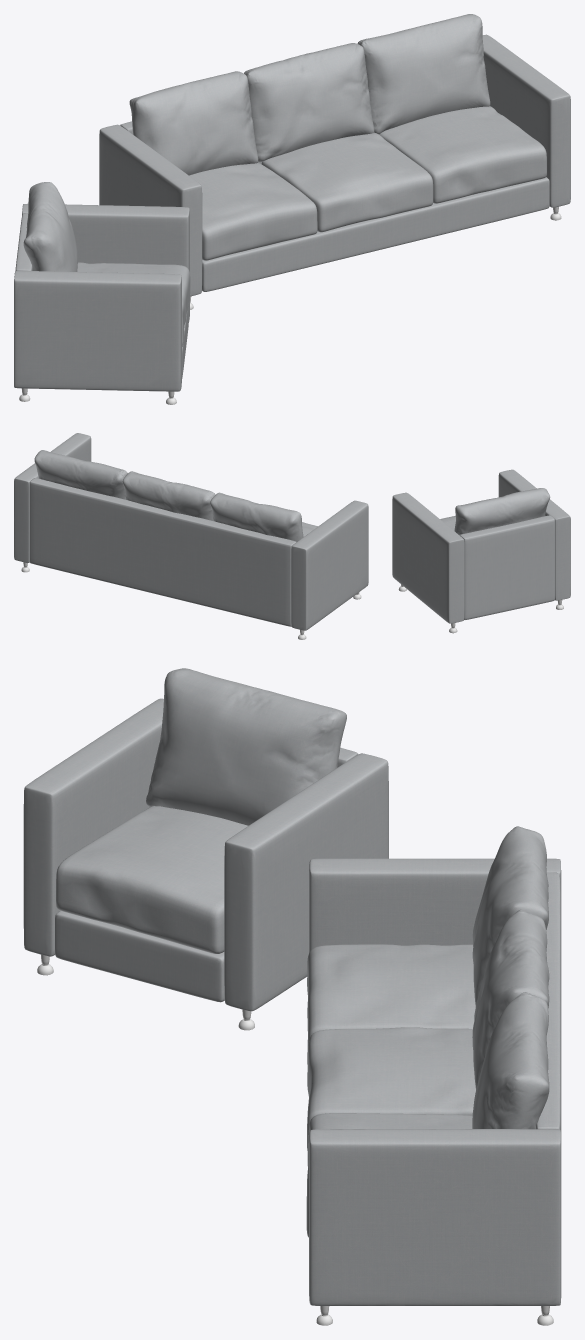
File: test_sofa.glb
The picture shows the model from 3 angles, top to bottom: view 1: azimuth 30°, elevation 25°; view 2: azimuth 150°, elevation 25°; view 3: azimuth 270°, elevation 25°; orthographic projection. The views are drawn at different scales.
Parts seen in each view (by area): view 1: object 1, seat cousion_19, seat cousion.005_28; view 2: object 1; view 3: object 1, seat cousion.005_28, seat cousion_19.
Boxes of the visible parts, box(x1,y1,x2,y2) form: object 1: box(14, 14, 570, 404); seat cousion_19: box(379, 106, 546, 203); seat cousion.005_28: box(77, 262, 190, 346); object 1: box(14, 433, 570, 639); object 1: box(23, 668, 561, 1325); seat cousion.005_28: box(56, 806, 248, 953); seat cousion_19: box(306, 1113, 472, 1237).
Size of the model in its own units: 3.15 by 0.7848 by 1.6.
2 materials, 1 textured.
